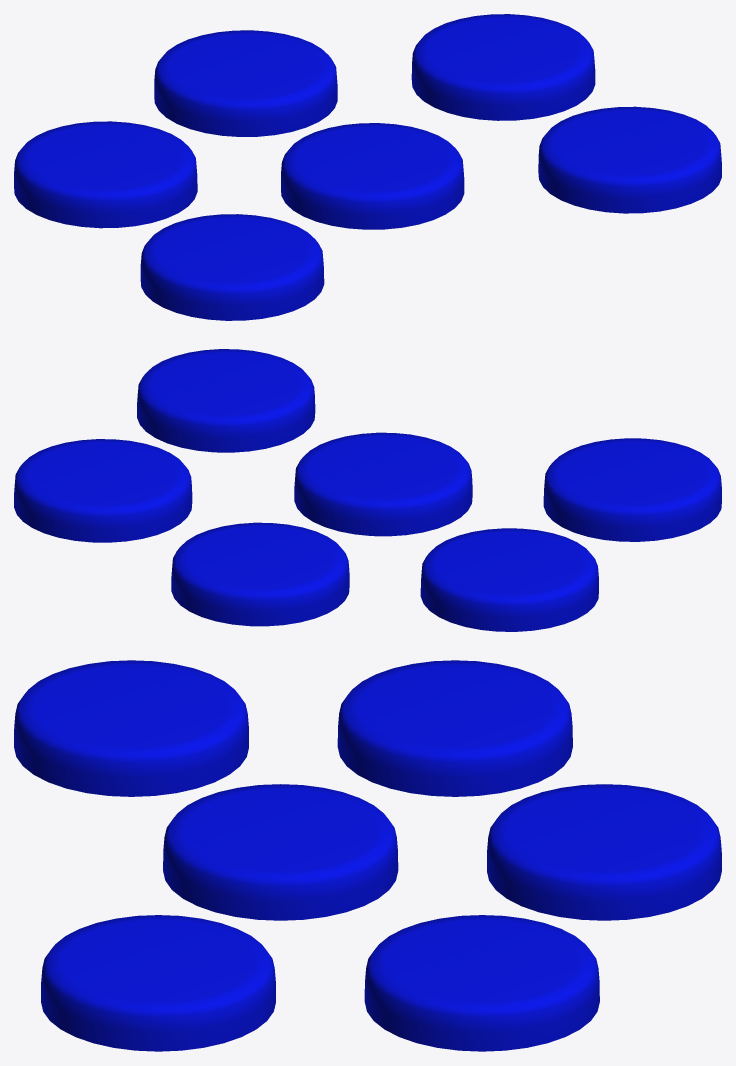
The model's file is buttons.glb.
3 views of the same model, one above another, from view 1: azimuth 30°, elevation 25°; view 2: azimuth 150°, elevation 25°; view 3: azimuth 270°, elevation 25° (orthographic). The views are drawn at different scales.
Visible parts, largest first — view 1: b4, b6, b1, b3, b2, b5; view 2: b5, b2, b6, b1, b3, b4; view 3: b1, b3, b4, b5, b2, b6.
Part boxes in pixels (<box>): b4: <box>140,214,324,320</box>; b6: <box>538,106,721,213</box>; b1: <box>14,121,197,228</box>; b3: <box>411,14,595,120</box>; b2: <box>154,30,337,136</box>; b5: <box>281,123,464,229</box>; b5: <box>294,432,472,536</box>; b2: <box>171,522,349,626</box>; b6: <box>137,349,315,452</box>; b1: <box>420,528,598,631</box>; b3: <box>14,439,192,542</box>; b4: <box>543,438,721,541</box>; b1: <box>337,660,572,796</box>; b3: <box>364,915,599,1051</box>; b4: <box>14,660,248,796</box>; b5: <box>163,784,398,920</box>; b2: <box>487,784,721,920</box>; b6: <box>41,915,275,1051</box>.
Bounding box in the file's own units: 0.0835 × 0.00446 × 0.0705.
